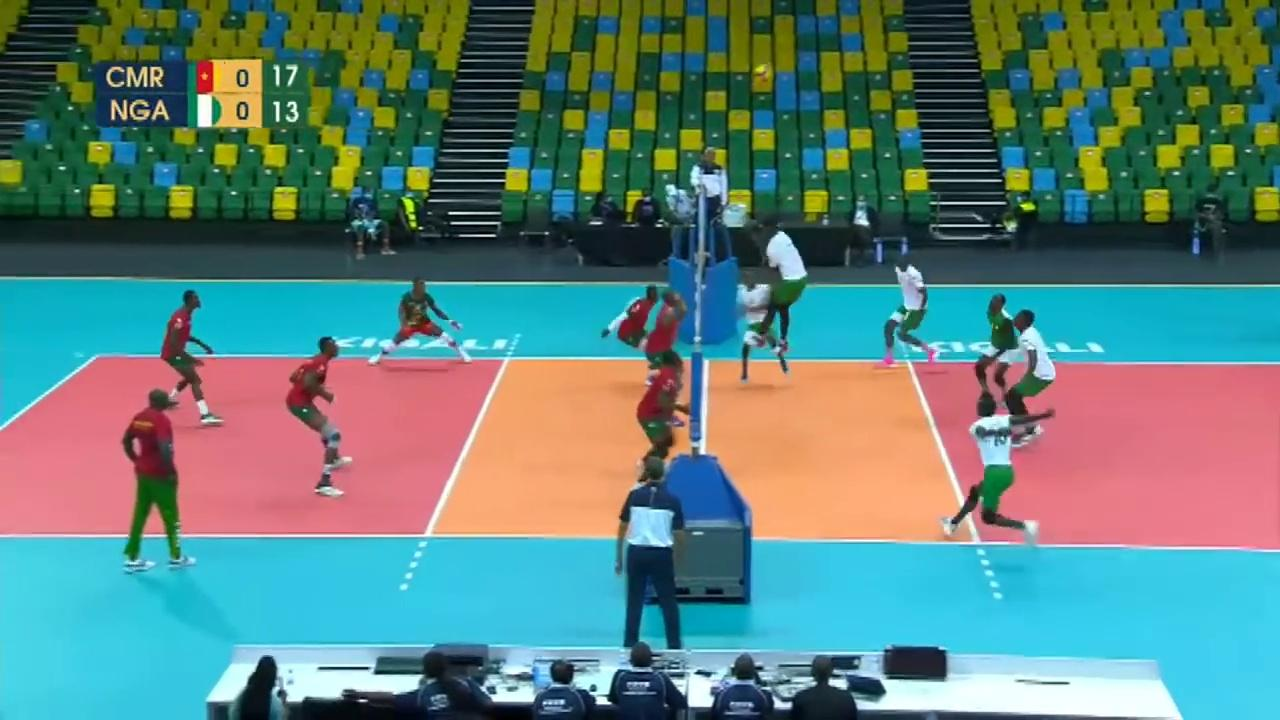player: (946, 398, 1059, 559), (286, 337, 358, 494), (1001, 306, 1061, 449), (375, 276, 471, 364), (159, 291, 221, 424), (964, 284, 1021, 409), (602, 279, 666, 386), (636, 351, 686, 484), (762, 218, 811, 352), (884, 260, 943, 367), (647, 293, 691, 428), (736, 270, 789, 382)
refree: (616, 459, 695, 644), (692, 146, 729, 248)
